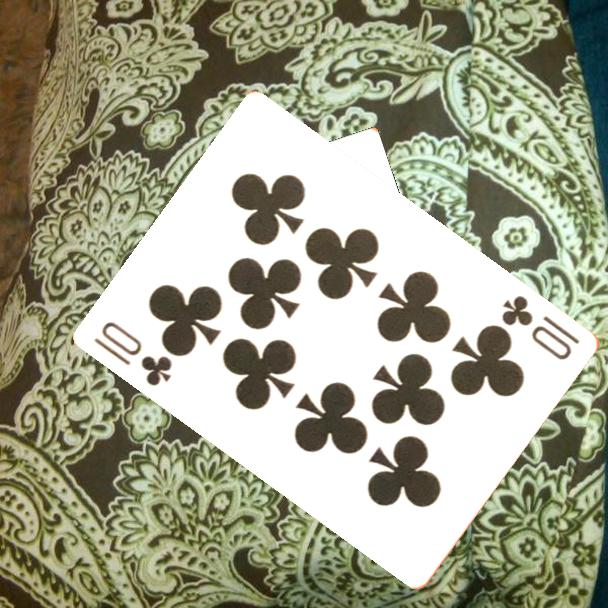c10: (498, 291, 584, 363), (91, 317, 176, 389)
